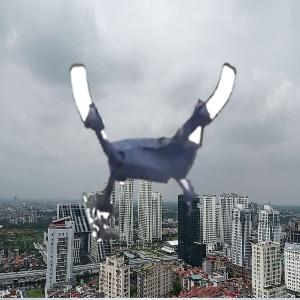drone: (71, 45, 252, 226)
